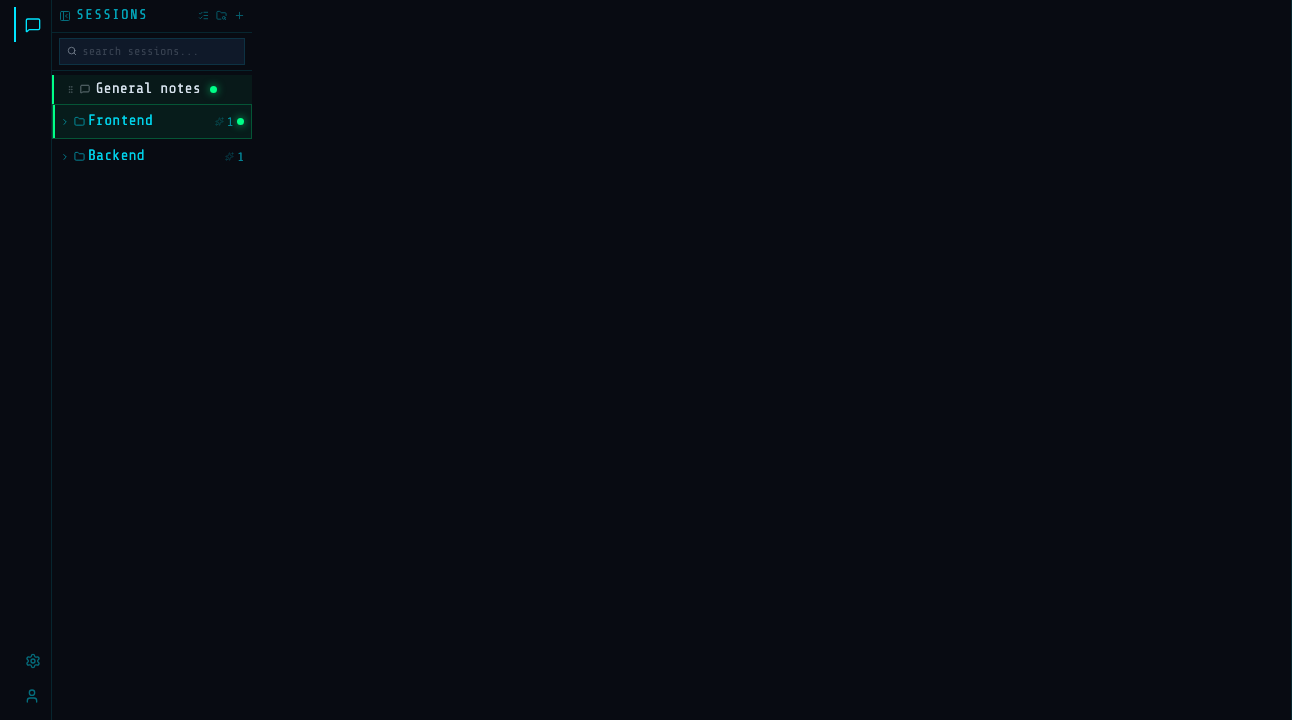
Scenario: LeftSidebar › shows unread dots on background chats and their collapsed folders
The width and height of the screenshot is (1292, 720).
Expected: the element named "Unread response in General notes" is shown, [210,86,216,93]
Expected: the element named "Unread response in Frontend" is shown, [237,118,244,125]
Click the text "Frontend". click: (120, 121)
box: [88,112,153,129]
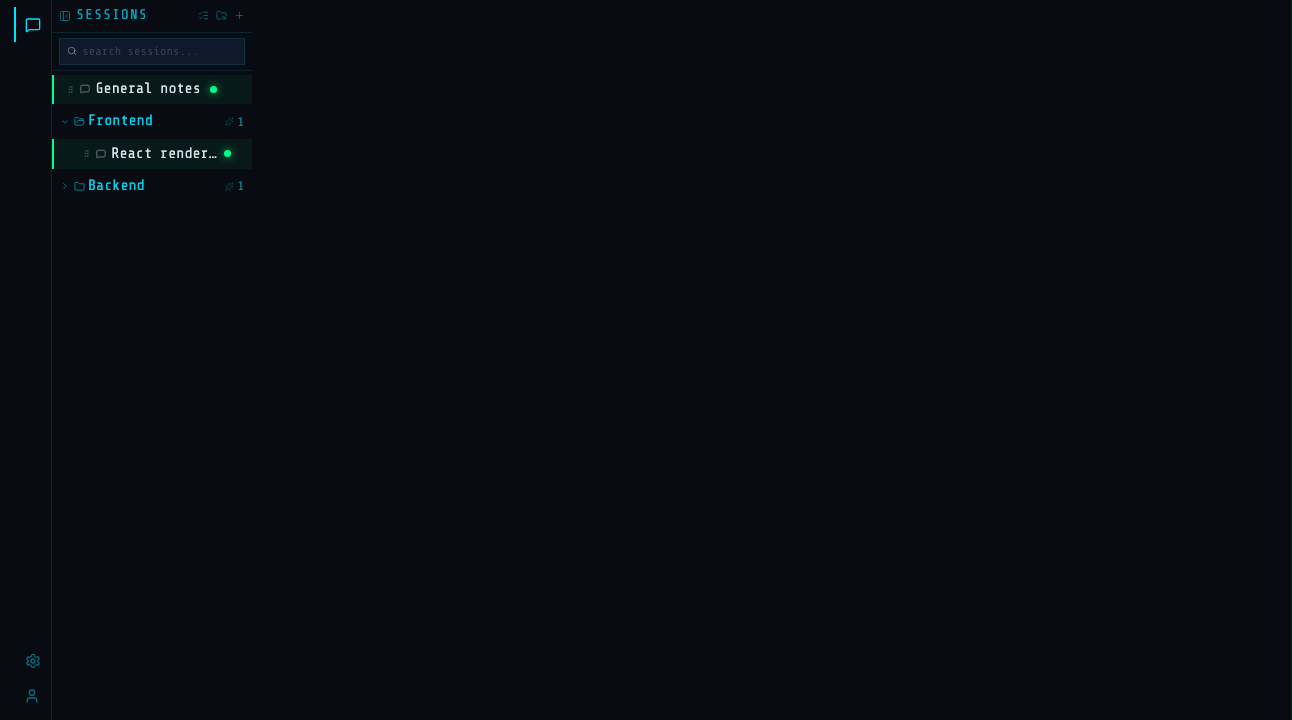
Now the element named "Unread response in React rendering bug" is shown, box [224,150,231,157]
